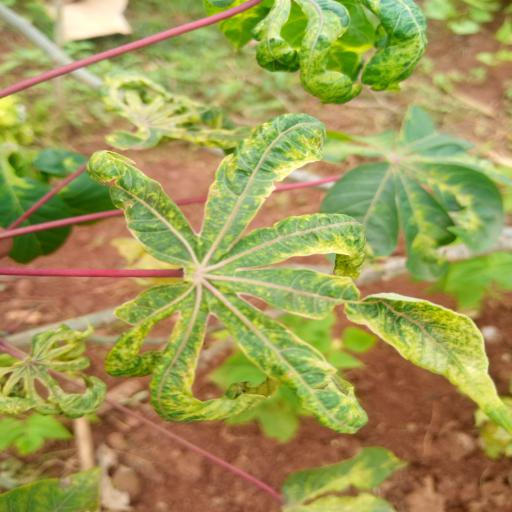Cassava_Mosaic: (85, 111, 512, 438), (320, 106, 512, 278)
